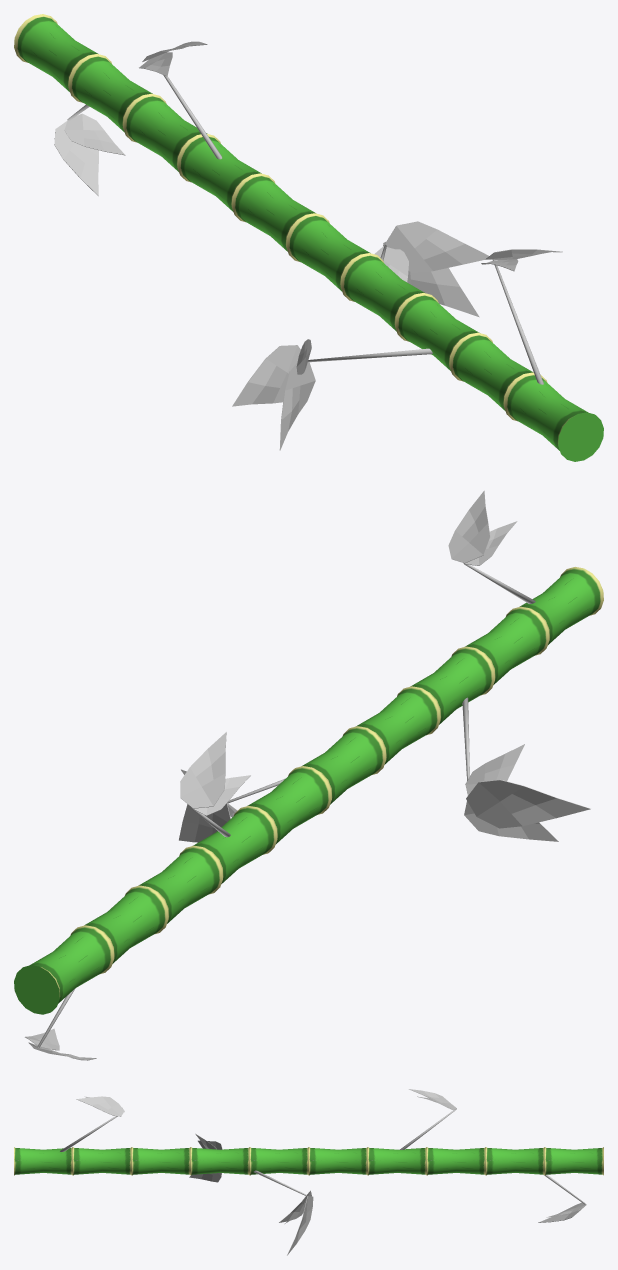
The model's file is bambook4.fbx.
3 views of the same model, one above another, from view 1: azimuth 30°, elevation 25°; view 2: azimuth 150°, elevation 25°; view 3: azimuth 270°, elevation 25° (orthographic). The views are drawn at different scales.
Visible parts, largest first — view 1: bambook.001; view 2: bambook.001; view 3: bambook.001.
Part boxes in pixels (<box>): bambook.001: <box>14,14,603,461</box>; bambook.001: <box>14,490,603,1060</box>; bambook.001: <box>14,1089,603,1255</box>.
Bounding box in the file's own units: 455 × 319 × 1275.
